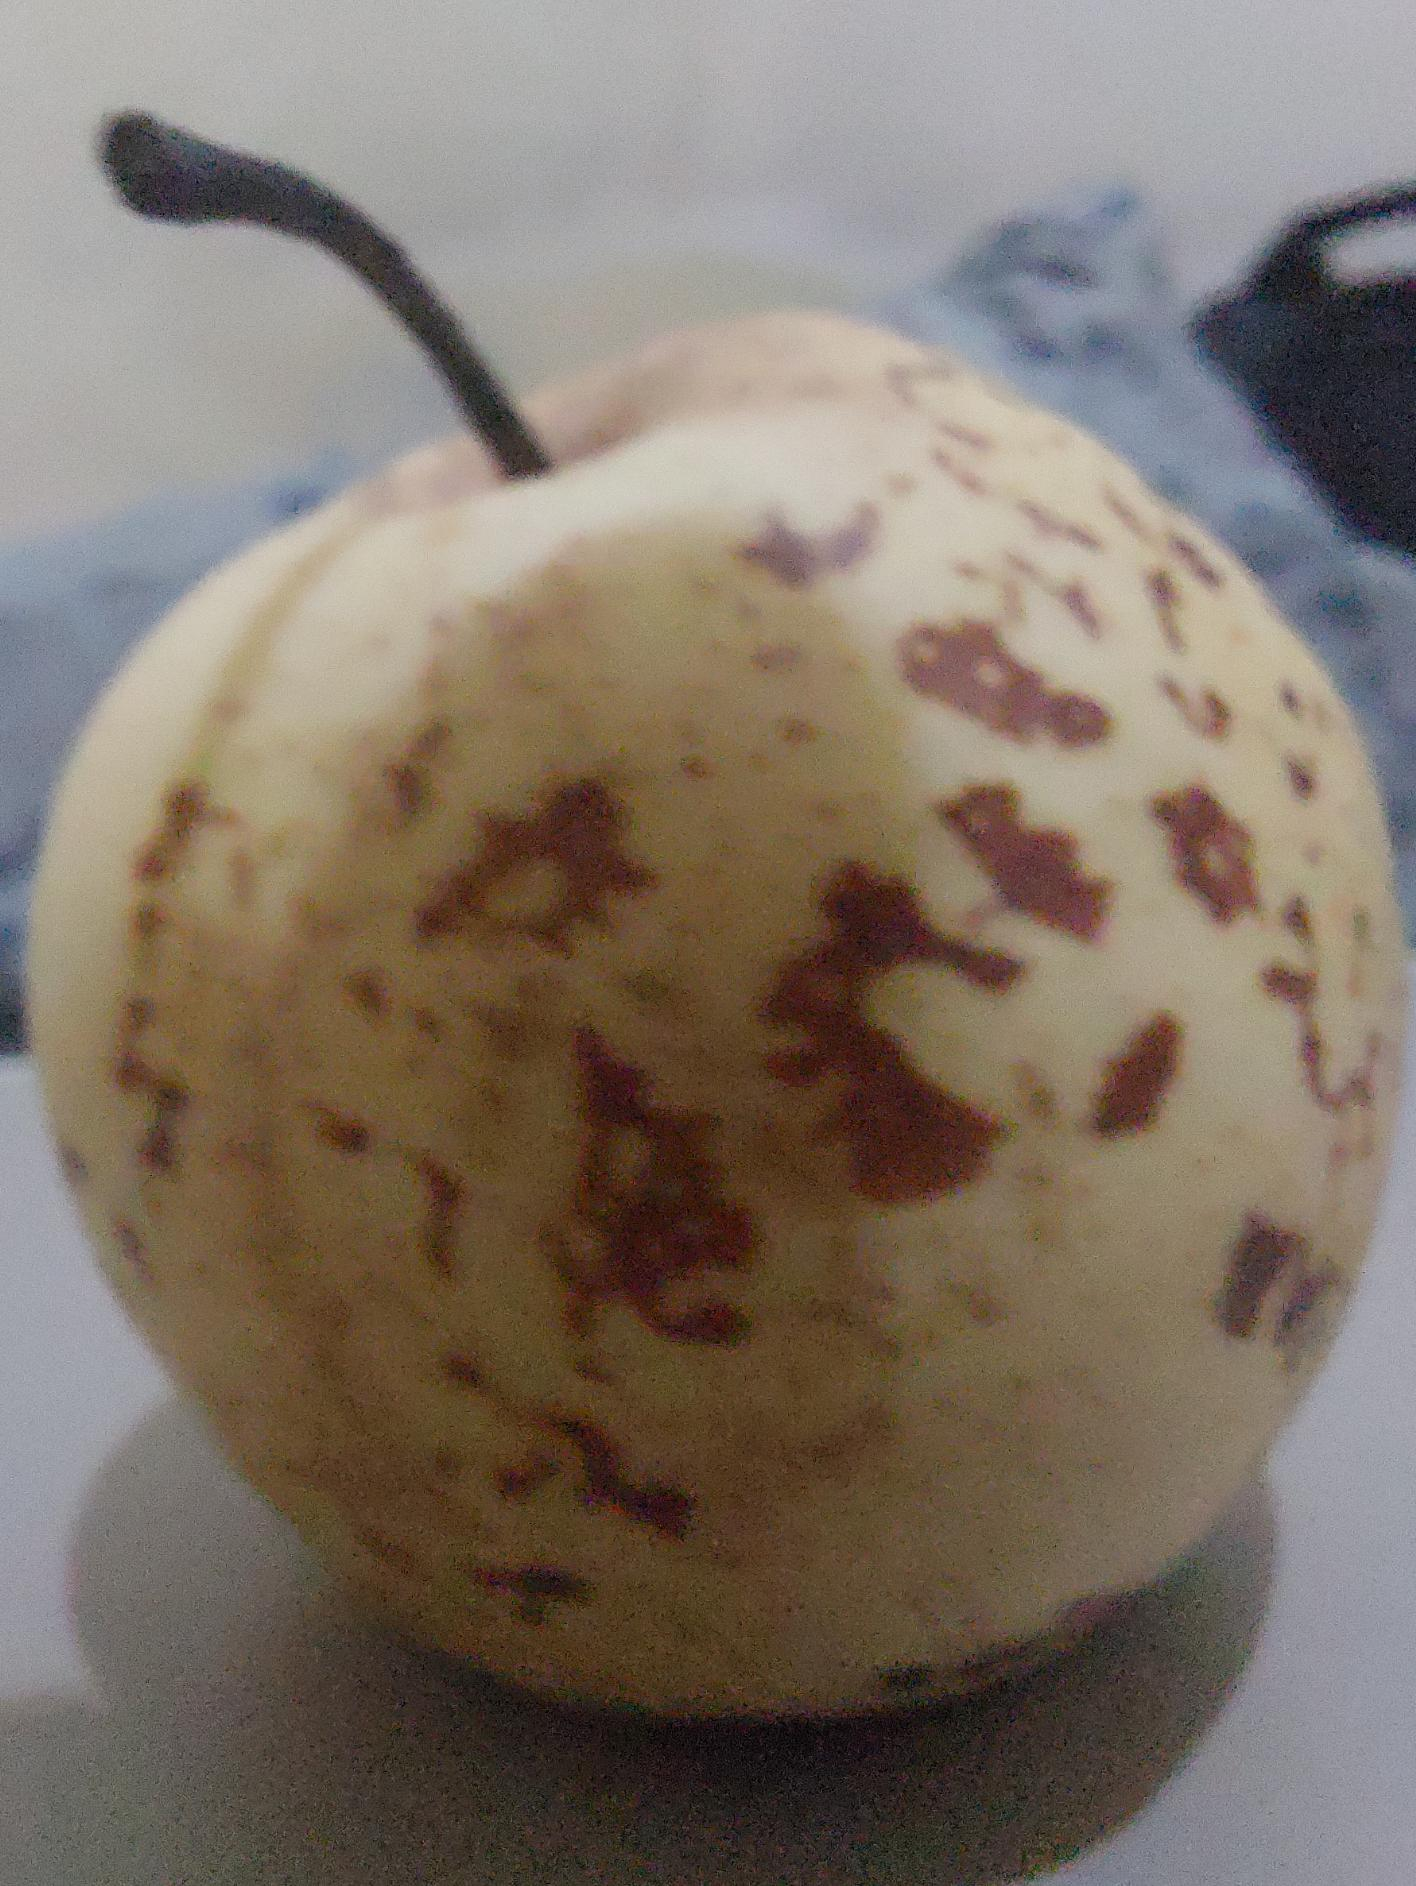Bad Pear: (12, 448, 1388, 1703)
